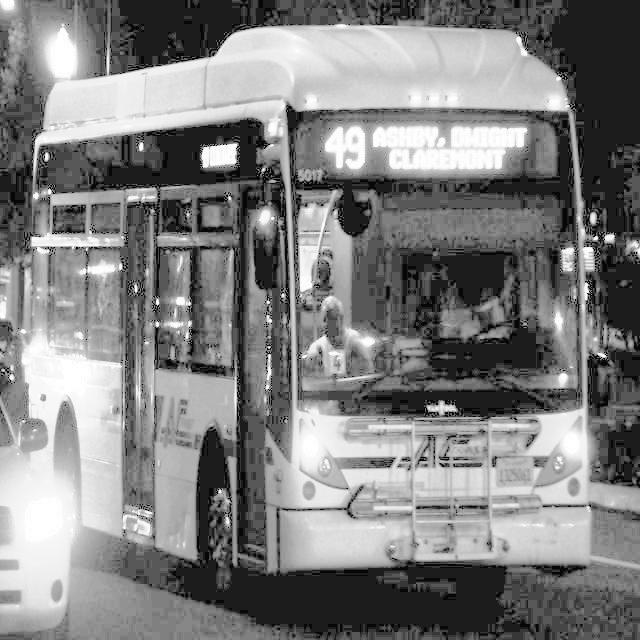Bus: (29, 64, 640, 603)
Car: (0, 371, 84, 639)
